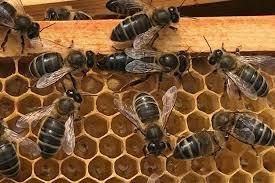Queen-Bee: (97, 48, 198, 80)
worker-bee: (200, 36, 275, 102), (128, 89, 186, 160), (32, 86, 88, 157), (208, 102, 275, 151), (109, 2, 180, 44), (27, 42, 100, 82), (177, 119, 229, 164)
